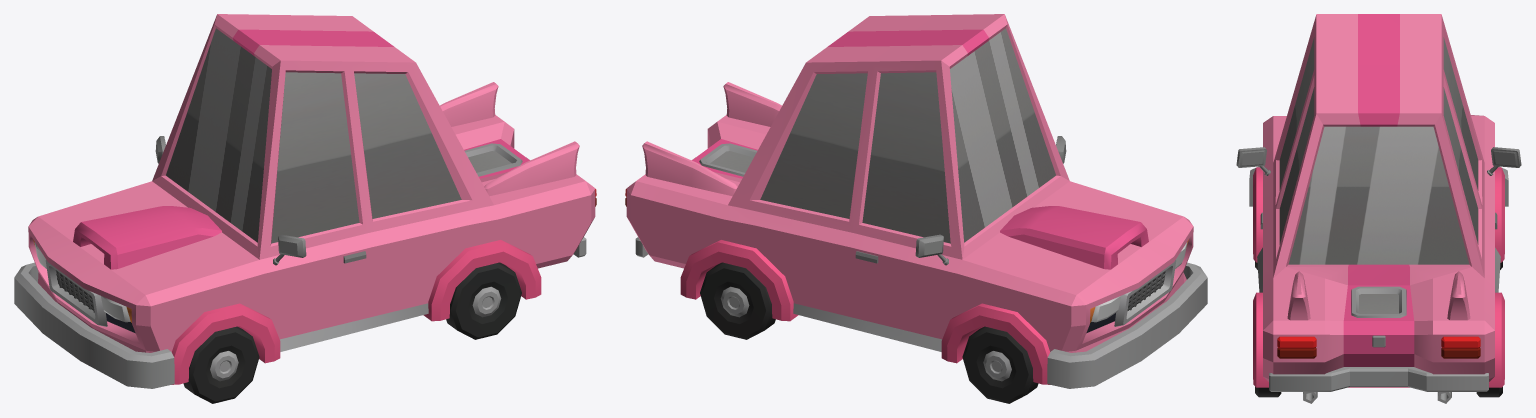
The model's file is Car_11_E.gltf.
3 renders of one model, left to right at view 1: azimuth 30°, elevation 25°; view 2: azimuth 150°, elevation 25°; view 3: azimuth 270°, elevation 25°, orthographic.
Parts seen in each view (by area): view 1: Car_11_E, RL, FL; view 2: Car_11_E, RR, FR; view 3: Car_11_E.
Boxes of the visible parts, x1=… form: Car_11_E: x1=14, y1=14, x2=596, y2=388; RL: x1=446, y1=262, x2=521, y2=339; FL: x1=183, y1=326, x2=259, y2=403; Car_11_E: x1=625, y1=14, x2=1207, y2=388; RR: x1=700, y1=262, x2=775, y2=339; FR: x1=962, y1=326, x2=1038, y2=403; Car_11_E: x1=1236, y1=14, x2=1521, y2=403.
Bounding box in the file's own units: 3.58 × 2.1 × 1.85.
3 materials, 3 textured.
